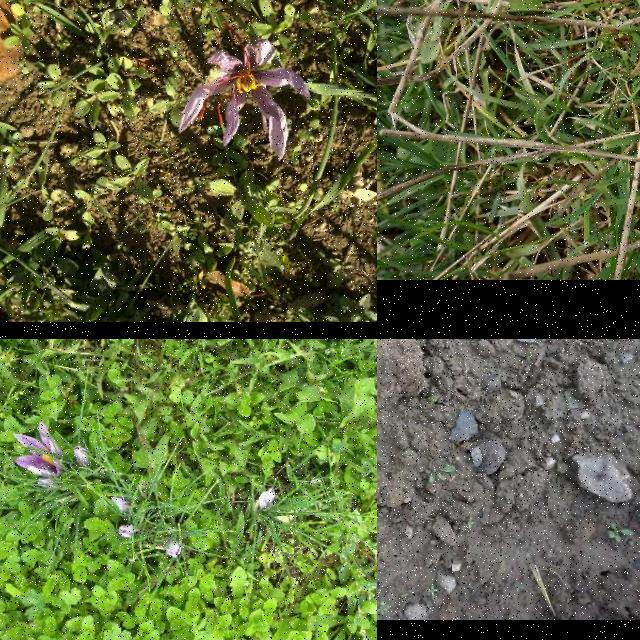flower: (178, 44, 312, 160), (15, 424, 62, 476), (256, 488, 276, 510), (74, 445, 90, 465), (113, 496, 129, 514), (168, 541, 182, 559), (120, 526, 136, 538)
